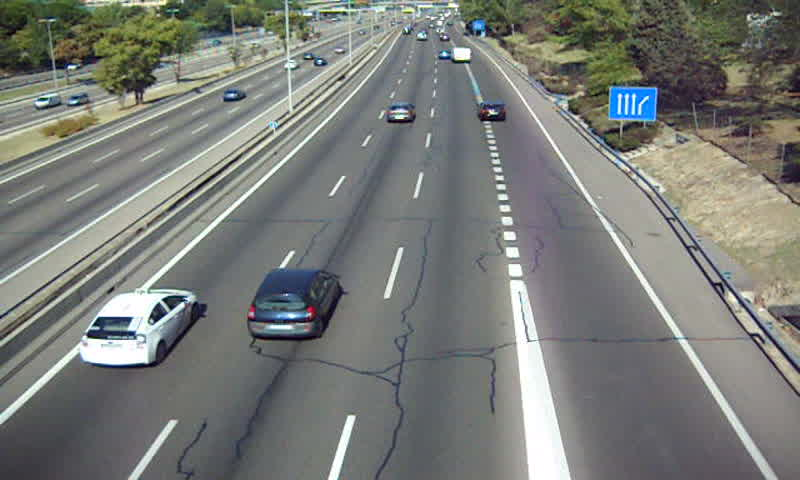car: (78, 289, 198, 366), (247, 268, 339, 340), (386, 102, 415, 125), (476, 102, 507, 121)
van: (450, 48, 472, 62)
